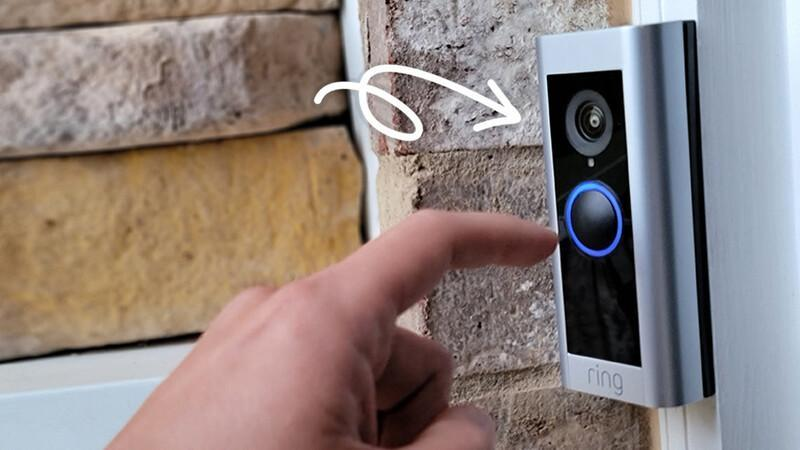doorbell: (533, 24, 703, 396)
